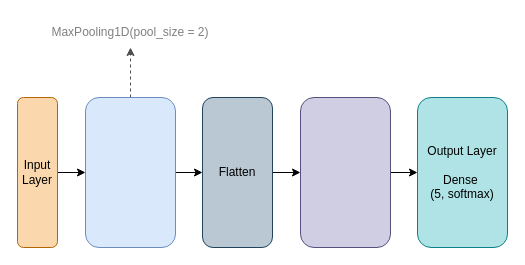
Some shapes in this 525 by 265 pixel diagram are drawn without their labels. The shapes that lost their labels are listed below. From the top down, each one's centre as x and y in pixels, then its label:
At (x=130, y=172): "Conv1D (32, relu)".
At (x=345, y=172): "Dense (50. relu)".
